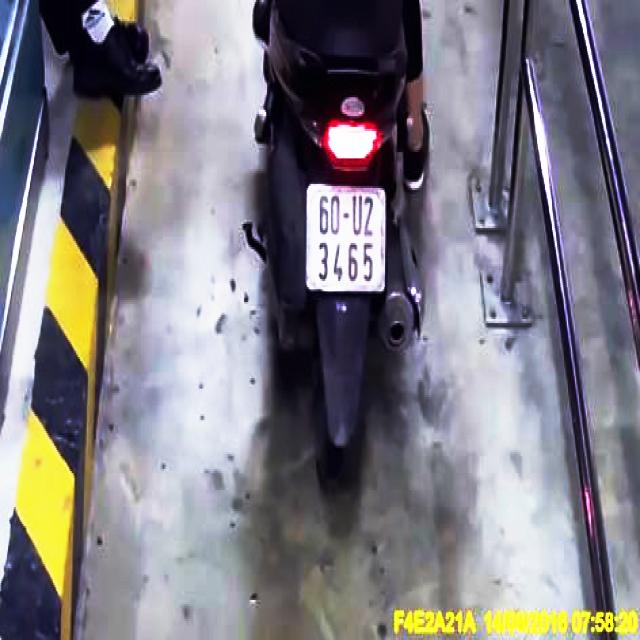license_plate: (310, 193, 389, 296)
